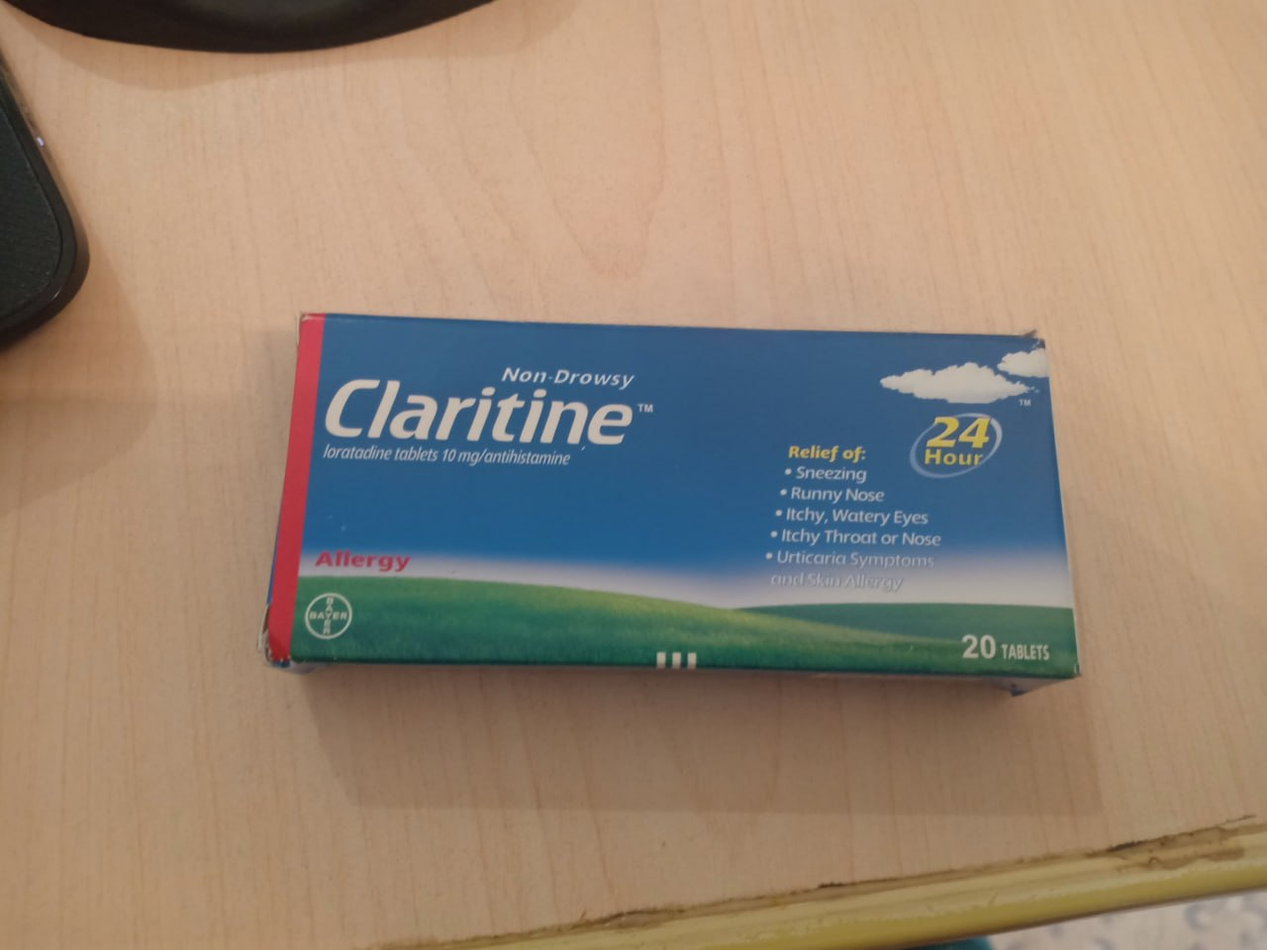Medicine: (260, 297, 1091, 708)
